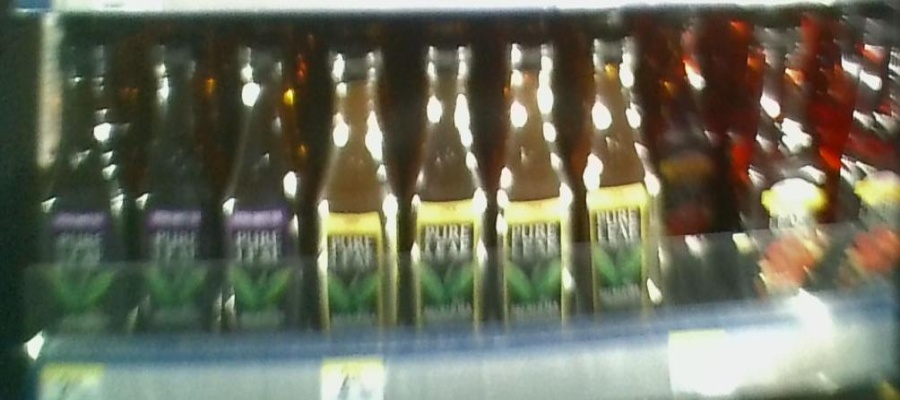bottle: (40, 38, 135, 348), (310, 37, 403, 352), (579, 26, 667, 339), (221, 43, 306, 352), (407, 36, 489, 354), (740, 12, 828, 305), (136, 37, 218, 349), (493, 35, 573, 340), (835, 4, 900, 299), (667, 17, 719, 238)
